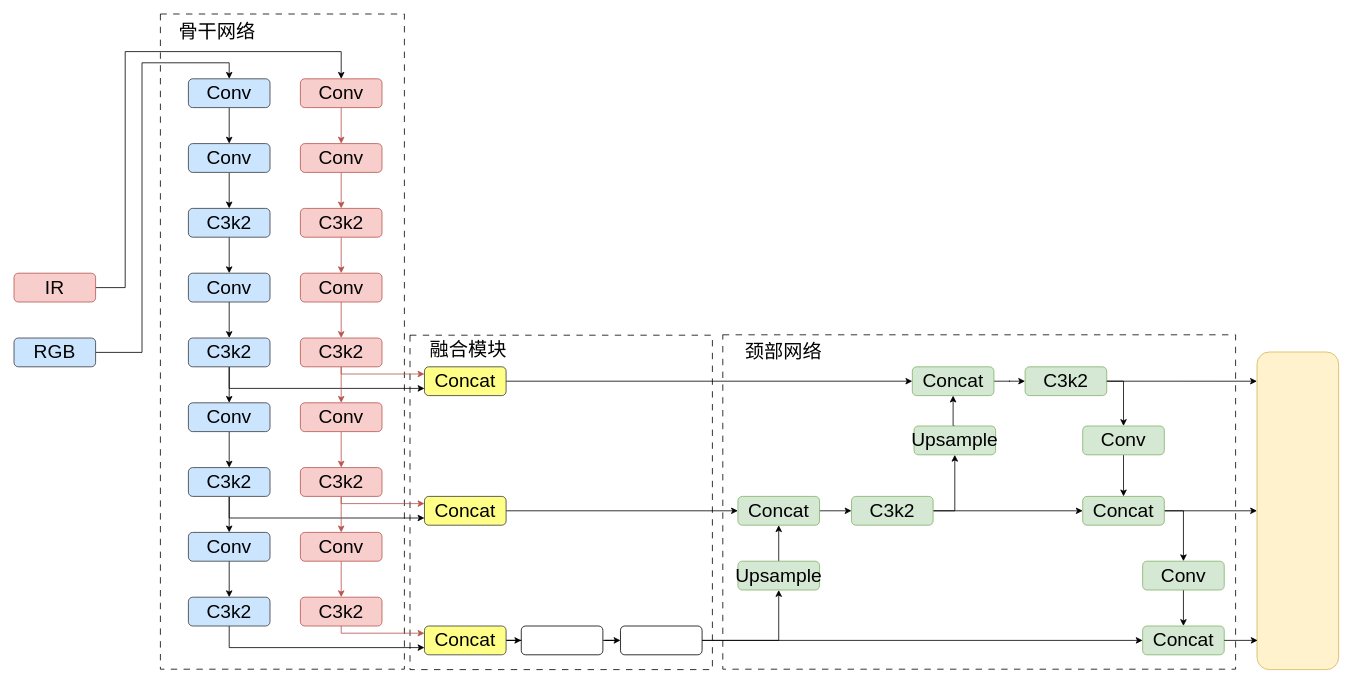
The diagram is 1353 pixels wide and 684 high, and some of its shapes have lost their labels. Each missing label, with the box of its shape:
C2PSA: (620, 625, 702, 655)
Detect: (1256, 351, 1339, 670)
SPPF: (520, 625, 603, 655)
